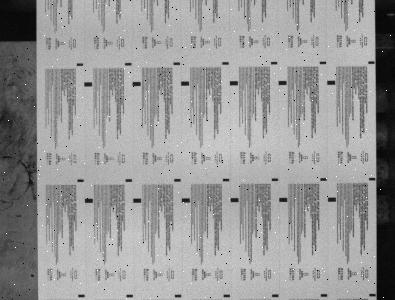backgroundclutter: (31, 274, 34, 277)
qblock: (132, 81, 141, 86), (279, 197, 288, 202), (84, 82, 92, 87), (181, 81, 189, 86), (279, 80, 287, 85), (327, 80, 335, 85), (133, 198, 141, 203), (85, 198, 93, 203), (328, 197, 336, 202), (230, 198, 239, 202), (230, 81, 238, 85), (182, 198, 190, 202)
smallqblock: (125, 62, 132, 66), (174, 178, 181, 182), (174, 294, 182, 297), (223, 294, 231, 297), (126, 294, 133, 297), (76, 63, 83, 66), (78, 294, 85, 297), (173, 62, 180, 65), (222, 62, 229, 65), (272, 294, 279, 297), (271, 61, 278, 64), (321, 294, 328, 297), (319, 61, 326, 64), (77, 179, 84, 182), (223, 178, 230, 181), (125, 179, 132, 182), (272, 178, 279, 181), (368, 61, 375, 64), (320, 178, 327, 181), (369, 293, 376, 296), (369, 178, 376, 181)
